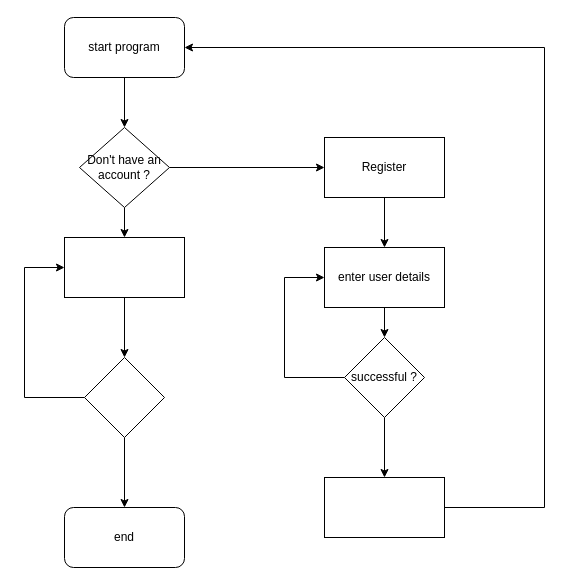
Image size: 570x585. Some labels were removed from this diagram. The shapes that lost their labels are listed below. From the top down, each one's box as (x1, y1, x2, y2) in pixels, then its label:
(64, 236, 184, 298): enter email and password
(84, 356, 164, 438): is password correct ?
(324, 476, 444, 538): Back to login pages
